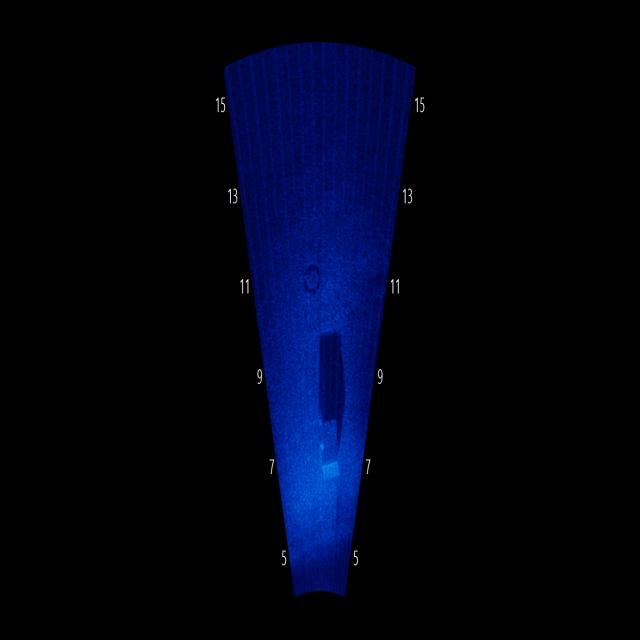square: (308, 370, 350, 503)
